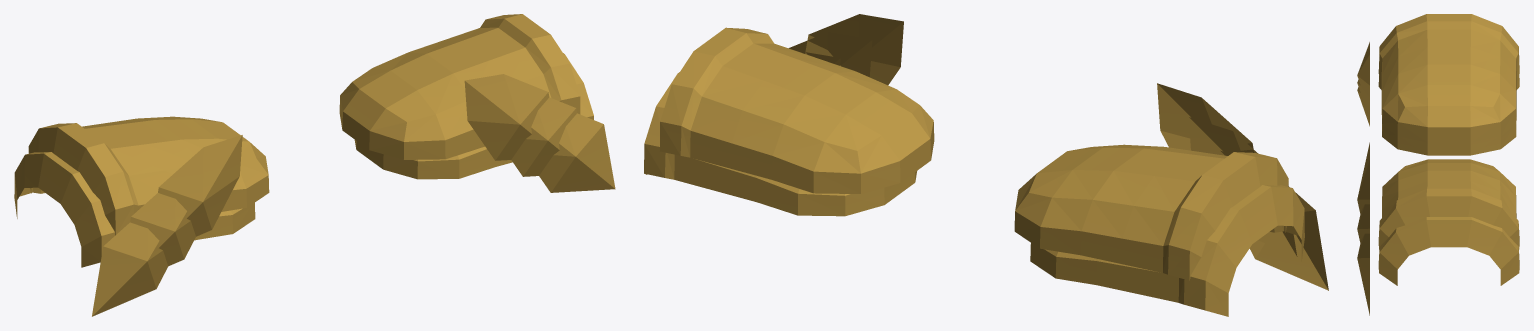
The model's file is elfo_hombreras_3.glb.
3 renders of one model, left to right at view 1: azimuth 30°, elevation 25°; view 2: azimuth 150°, elevation 25°; view 3: azimuth 270°, elevation 25°, orthographic. The views are drawn at different scales.
Parts seen in each view (by area): view 1: elfo_hombreras_3; view 2: elfo_hombreras_3; view 3: elfo_hombreras_3.
Part boxes in pixels (<box>): elfo_hombreras_3: <box>14,14,615,316</box>; elfo_hombreras_3: <box>644,14,1328,316</box>; elfo_hombreras_3: <box>1357,14,1519,315</box>.
Size of the model in its own units: 1.32 by 0.3504 by 0.4419.
Materials: 1 (1 with a texture image).
